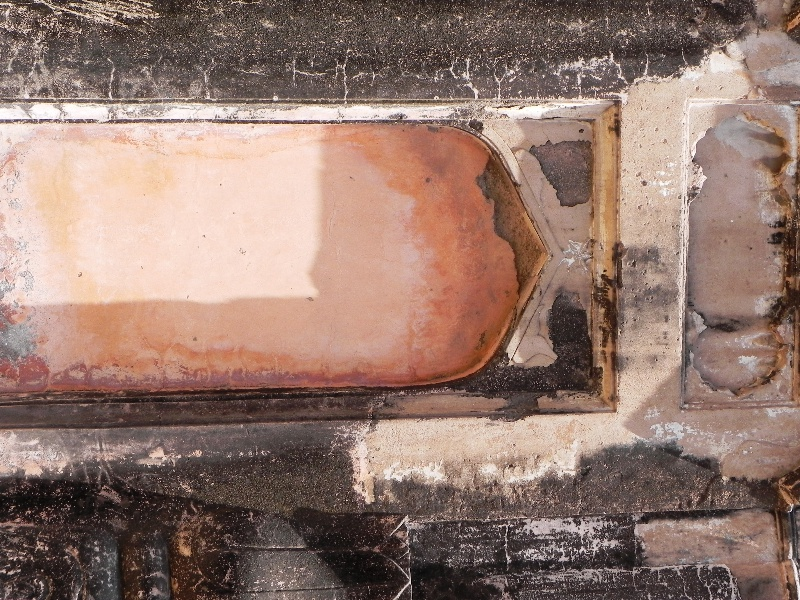Spalling: (464, 139, 530, 293), (534, 113, 596, 224)
